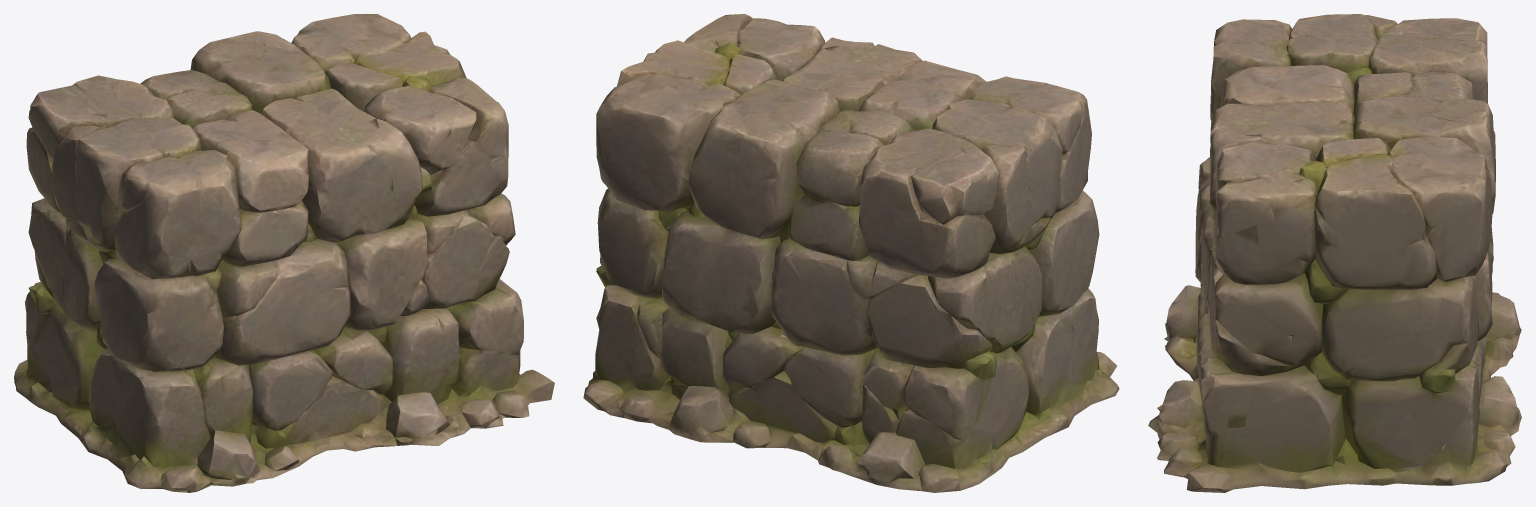
The model's file is muro_agrietado_6000.glb.
3 views of the same model, side by side, from view 1: azimuth 30°, elevation 25°; view 2: azimuth 150°, elevation 25°; view 3: azimuth 270°, elevation 25° (orthographic). The views are drawn at different scales.
Parts seen in each view (by area): view 1: muro_agrietado_malla; view 2: muro_agrietado_malla; view 3: muro_agrietado_malla.
Part boxes in pixels (x1,y1,x2,y2): muro_agrietado_malla: [14, 14, 554, 492]; muro_agrietado_malla: [583, 14, 1119, 492]; muro_agrietado_malla: [1148, 14, 1521, 492].
Bounding box in the file's own units: 0.4619 × 0.3145 × 0.3603.
1 material, 1 textured.
